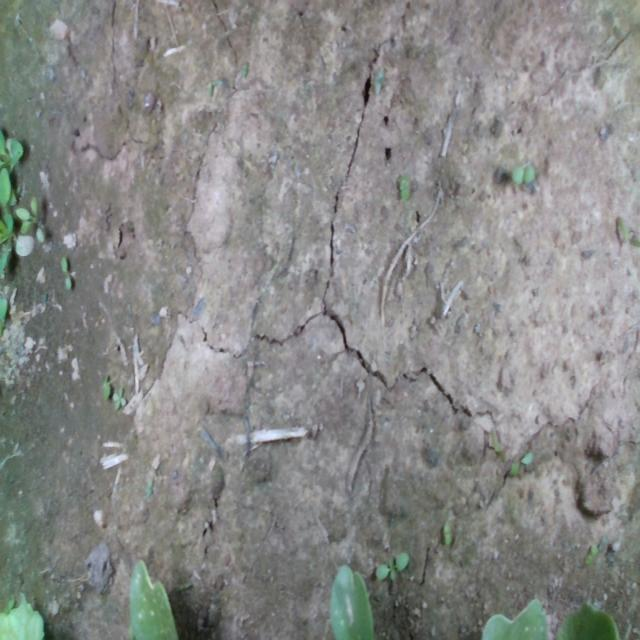weed: (373, 548, 409, 582), (510, 163, 535, 183), (110, 384, 126, 411), (60, 254, 72, 290)
